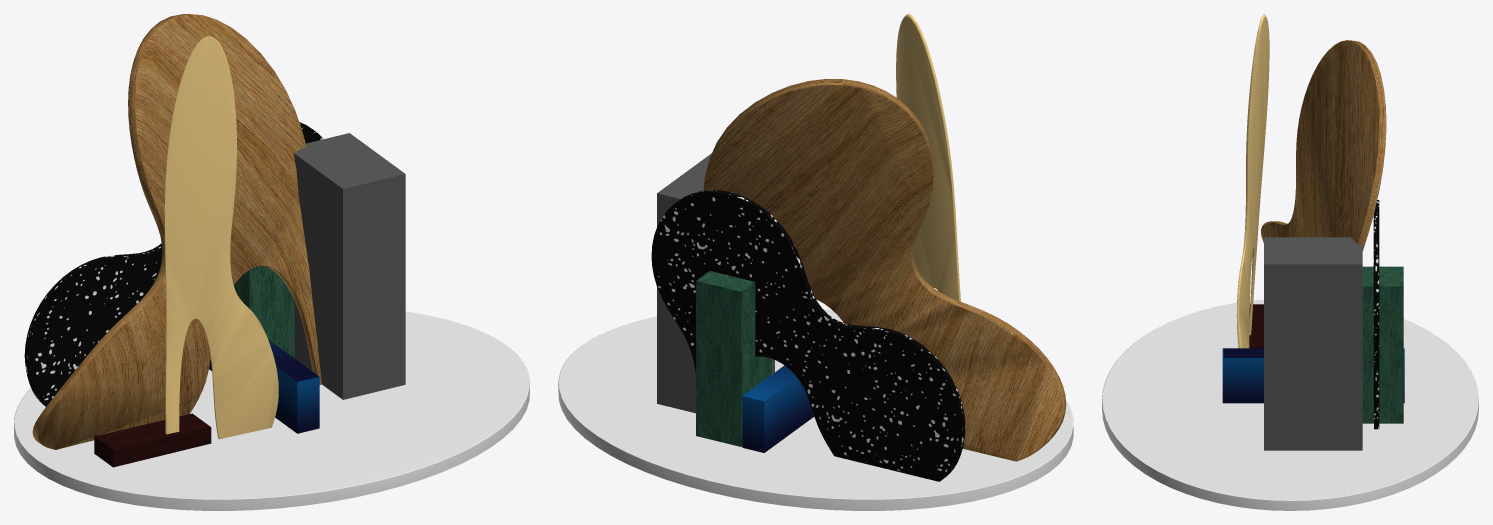
Rendered from Table Materials.glb.
The picture shows the model from 3 angles, left to right: view 1: azimuth 30°, elevation 25°; view 2: azimuth 150°, elevation 25°; view 3: azimuth 270°, elevation 25°; orthographic projection. The views are drawn at different scales.
Parts seen in each view (by area): view 1: Organic Shapes #4 (×2), Ellipse, Box 2, Organic Shapes #4 1, Box 5, Box 1, Box 3; view 2: Organic Shapes #4 (×2), Organic Shapes #4 1, Ellipse, Box 1, Box 2, Box 3; view 3: Ellipse, Organic Shapes #4 (×2), Box 2, Box 1, Box 3, Organic Shapes #4 1, Box 5.
Part boxes in pixels (left/top/right/bottom): Organic Shapes #4 (×2): left=32, top=14, right=321, bottom=449; Ellipse: left=14, top=311, right=529, bottom=510; Box 2: left=293, top=133, right=405, bottom=399; Organic Shapes #4 1: left=24, top=122, right=323, bottom=406; Box 5: left=94, top=413, right=211, bottom=467; Box 1: left=234, top=266, right=294, bottom=358; Box 3: left=209, top=339, right=319, bottom=433; Organic Shapes #4 (×2): left=703, top=14, right=1066, bottom=461; Organic Shapes #4 1: left=651, top=190, right=965, bottom=481; Ellipse: left=558, top=309, right=1073, bottom=510; Box 1: left=696, top=271, right=771, bottom=446; Box 2: left=657, top=153, right=774, bottom=413; Box 3: left=742, top=322, right=843, bottom=452; Ellipse: left=1102, top=299, right=1478, bottom=510; Organic Shapes #4 (×2): left=1236, top=14, right=1386, bottom=348; Box 2: left=1264, top=237, right=1362, bottom=450; Box 1: left=1362, top=266, right=1403, bottom=423; Box 3: left=1222, top=348, right=1404, bottom=403; Organic Shapes #4 1: left=1373, top=200, right=1379, bottom=429; Box 5: left=1249, top=304, right=1263, bottom=348.
Bounding box in the file's own units: 0.3253 × 0.269 × 0.2522.
Materials: 8 (5 with a texture image).
